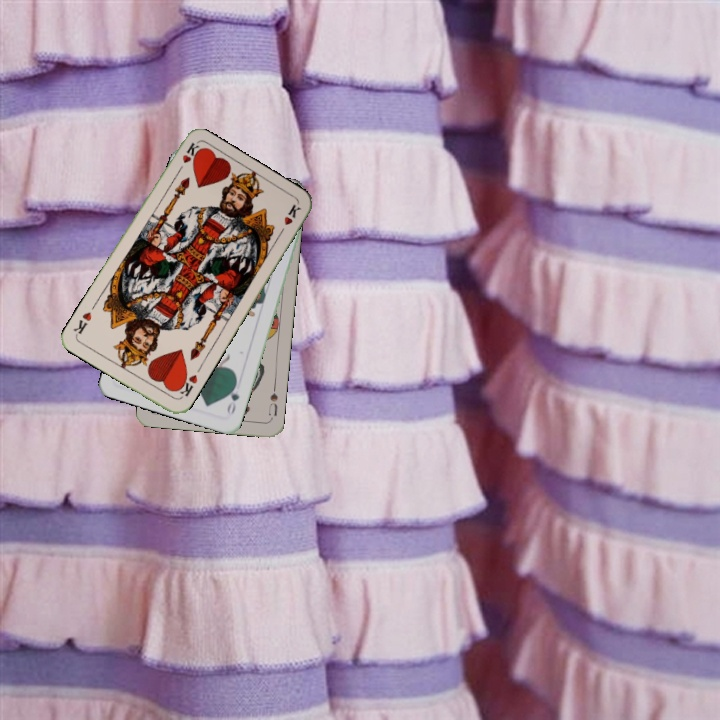GO: (223, 378, 242, 418)
HK: (172, 139, 202, 177), (172, 370, 200, 401)
SU: (264, 381, 281, 422)
